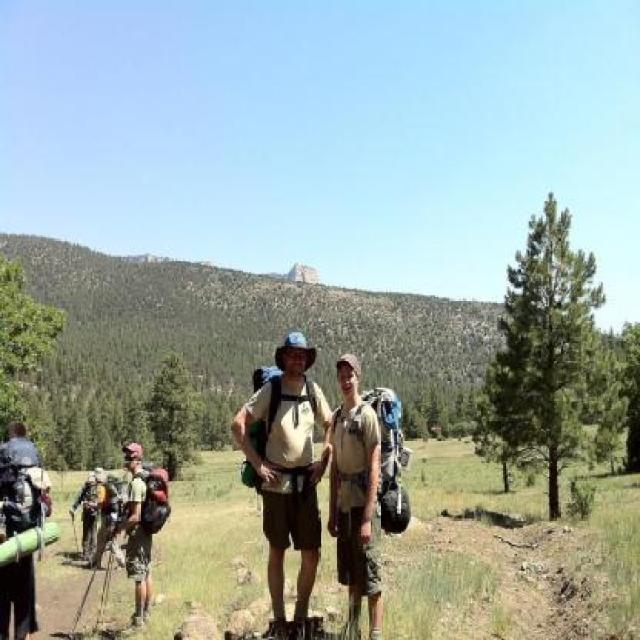backpack: (1, 437, 54, 531), (368, 383, 414, 488), (143, 466, 174, 537), (106, 469, 128, 522), (266, 376, 282, 432), (250, 365, 282, 392), (303, 372, 320, 418)
